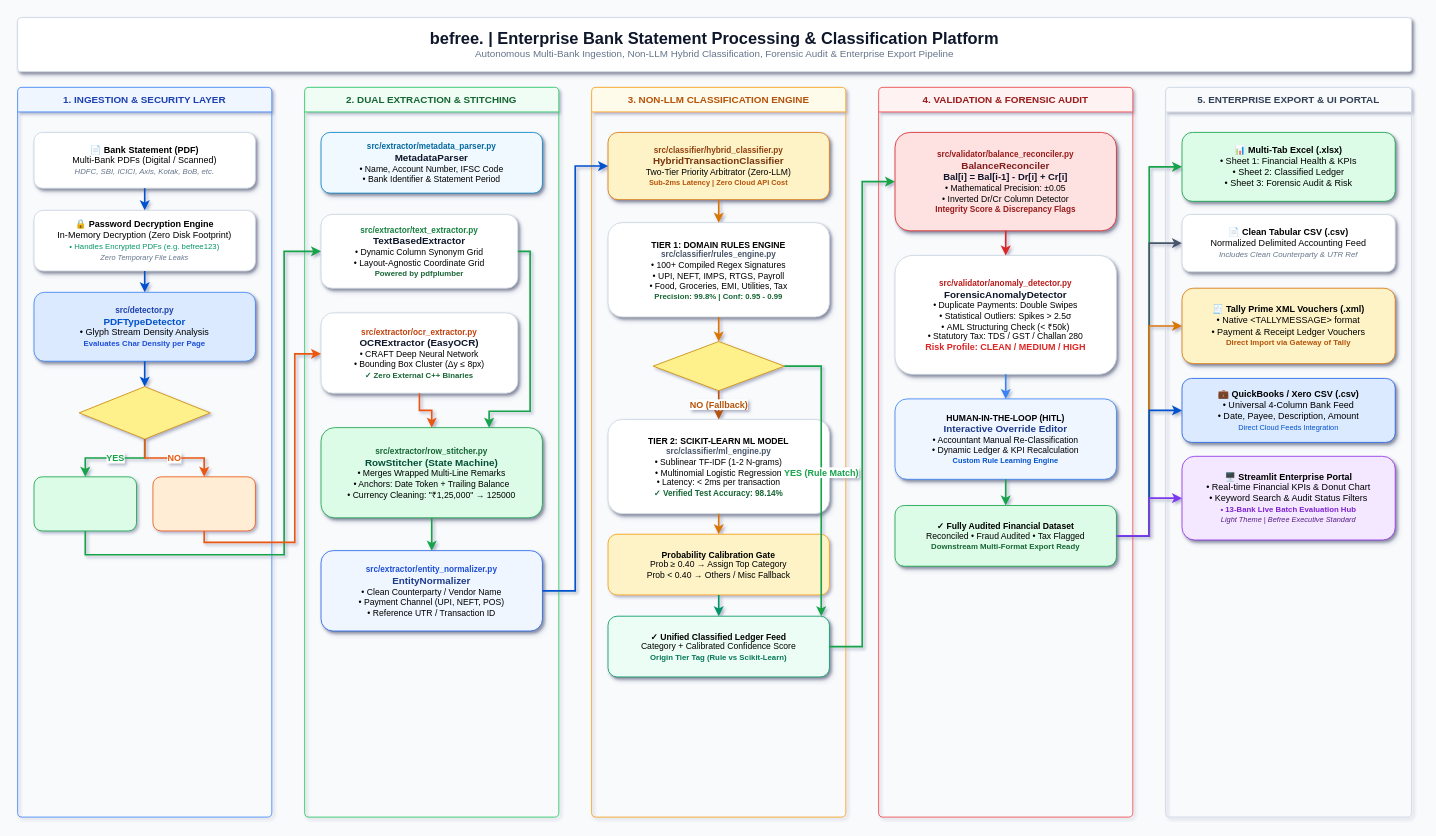
This 1436x836 diagram has some shape labels left out. Here are the shapes that lost their labels. From the top down, the centre of each, then its label:
At point (718, 366): "Rule Match? (Anchor Regex)".
At point (144, 412): "Chars ≥ 50? (Per Page)".
At point (85, 503): "Vector Stream Digital Font Layer < 100ms Latency".
At point (203, 503): "Raster Image Scanned Bitmap Computer Vision".
